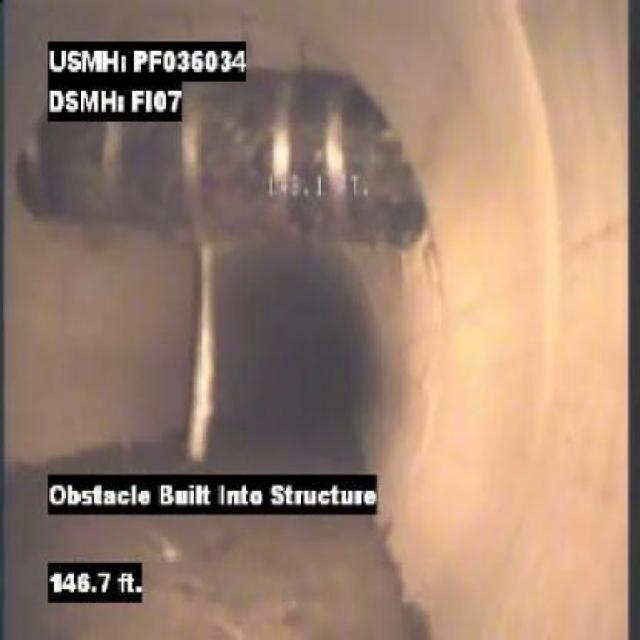Utility intrusion: (11, 60, 434, 249)
